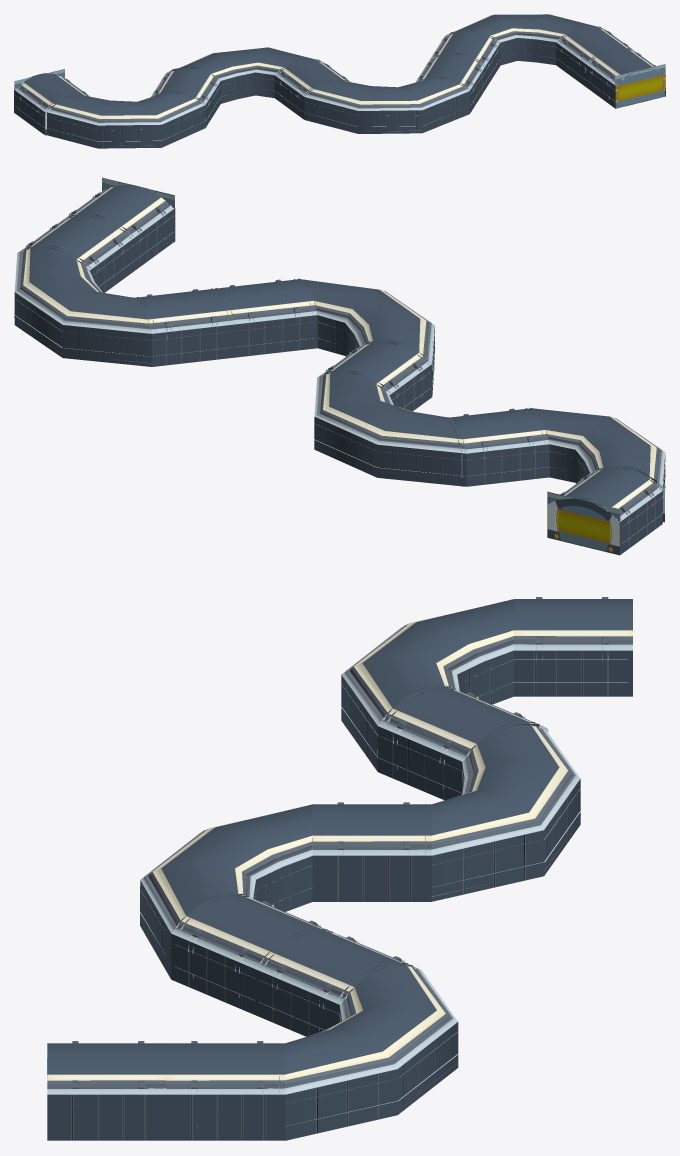
The model's file is Lab3.fbx.
3 renders of one model, top to bottom at view 1: azimuth 30°, elevation 25°; view 2: azimuth 150°, elevation 25°; view 3: azimuth 270°, elevation 25°, orthographic. The views are drawn at different scales.
Visible parts, largest first — view 1: Joint_02, Joint_04, Joint_01, Joint_03; view 2: Joint_03, Joint_01, Joint_02, Joint_04; view 3: Joint_01, Joint_03, Joint_02, Joint_04.
Part boxes in pixels (x1,y1,x2,y2): Joint_02: [303, 29, 500, 133]; Joint_04: [14, 69, 205, 148]; Joint_01: [444, 14, 665, 108]; Joint_03: [150, 47, 350, 127]; Joint_03: [314, 340, 549, 486]; Joint_01: [14, 177, 175, 366]; Joint_02: [134, 278, 435, 394]; Joint_04: [533, 408, 665, 555]; Joint_01: [47, 963, 458, 1140]; Joint_03: [312, 686, 581, 901]; Joint_02: [139, 804, 407, 1036]; Joint_04: [340, 597, 632, 771].
Size of the model in its own units: 8424 by 521 by 4225.
